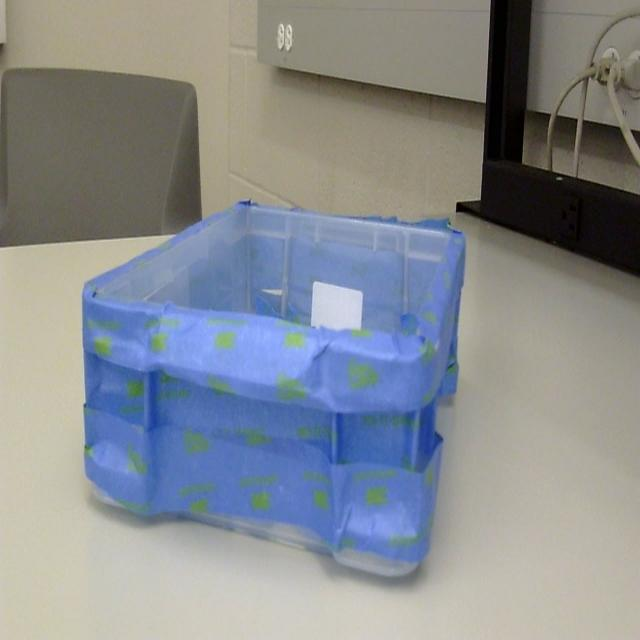bucket: (81, 201, 467, 587)
